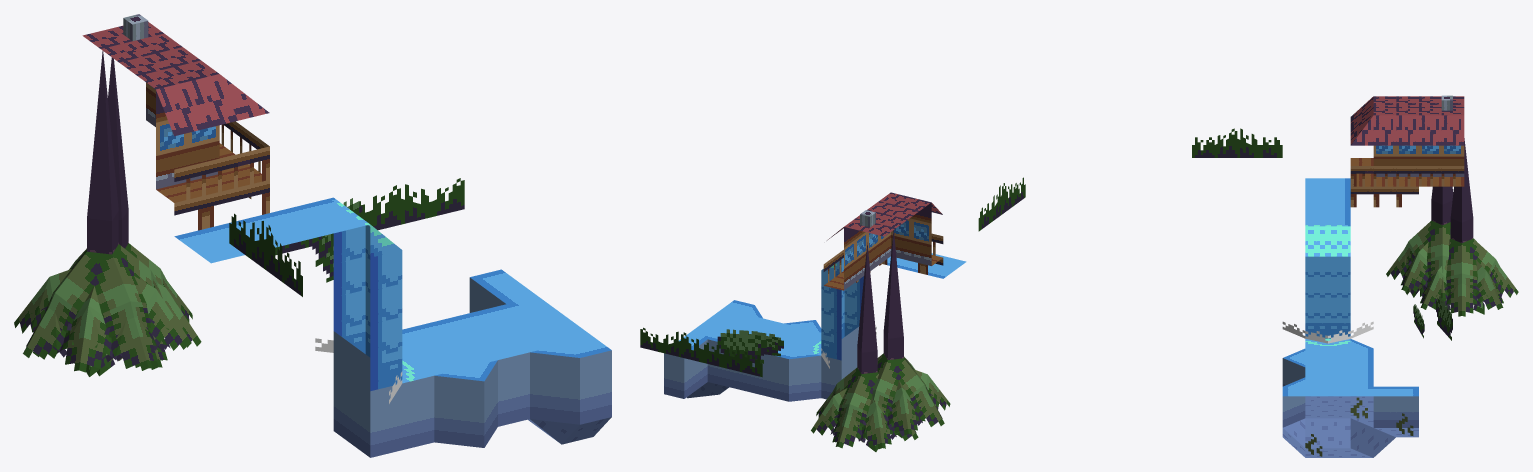
File: waterfall.glb
The picture shows the model from 3 angles, left to right: view 1: azimuth 30°, elevation 25°; view 2: azimuth 150°, elevation 25°; view 3: azimuth 270°, elevation 25°; orthographic projection. The views are drawn at different scales.
Parts seen in each view (by area): view 1: default, Tree Branch (×6), Tree Trunk (×2), Medium Tree Branch (×3); view 2: default, Tree Branch (×6), Tree Trunk (×2), Medium Tree Branch (×3); view 3: default, Medium Tree Branch (×4), Tree Branch (×4), Tree Trunk (×2).
Part boxes in pixels (box(x1,y1,x2,y2)): default: box(82, 14, 611, 457); Tree Branch (×6): box(14, 269, 201, 372); Tree Trunk (×2): box(87, 51, 128, 254); Medium Tree Branch (×3): box(44, 244, 158, 337); default: box(640, 177, 1025, 401); Tree Branch (×6): box(811, 369, 950, 449); Tree Trunk (×2): box(857, 230, 903, 373); Medium Tree Branch (×3): box(837, 357, 930, 427); default: box(1192, 95, 1464, 457); Medium Tree Branch (×4): box(1404, 220, 1500, 293); Tree Branch (×4): box(1401, 242, 1503, 316); Tree Trunk (×2): box(1431, 138, 1473, 242).
Size of what is drawn, in the model's own units: 72 by 80 by 92.
1 material, 1 textured.
